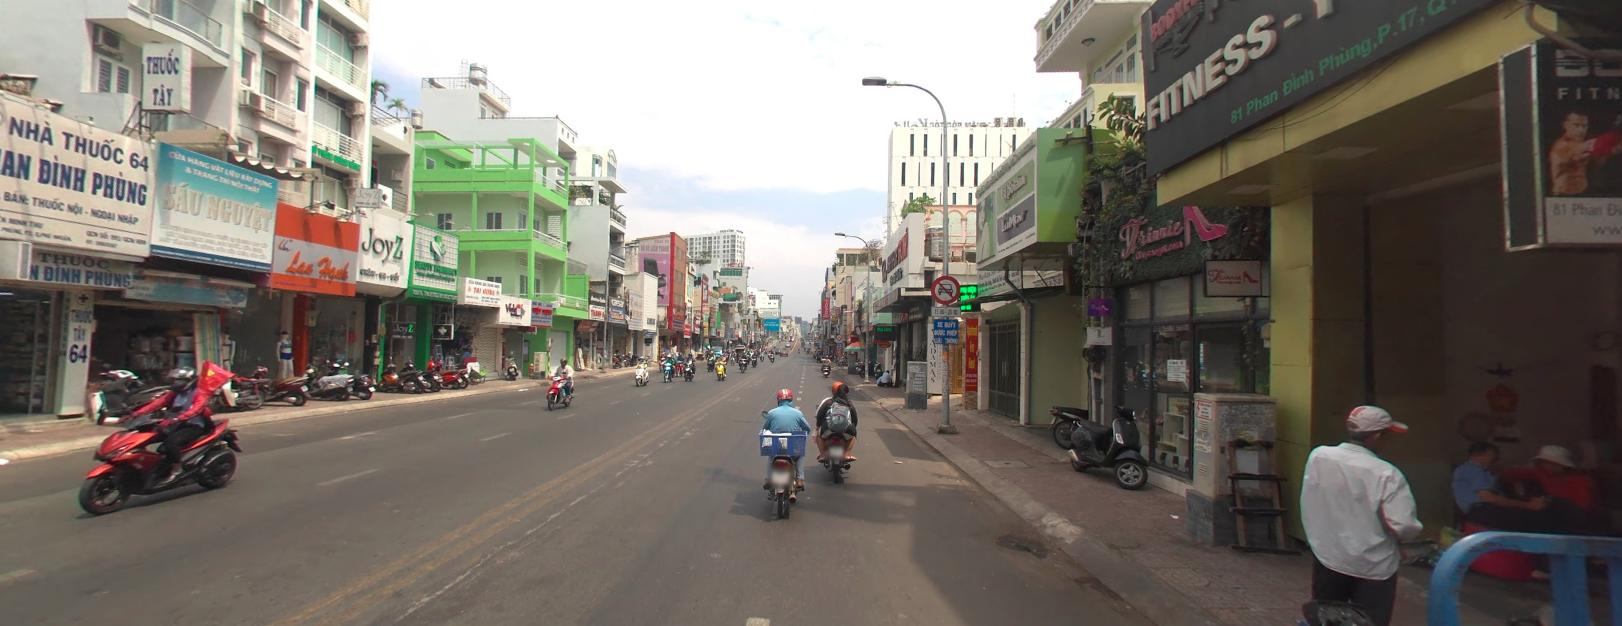Cam con lai: (931, 274, 960, 303), (836, 332, 842, 338)
